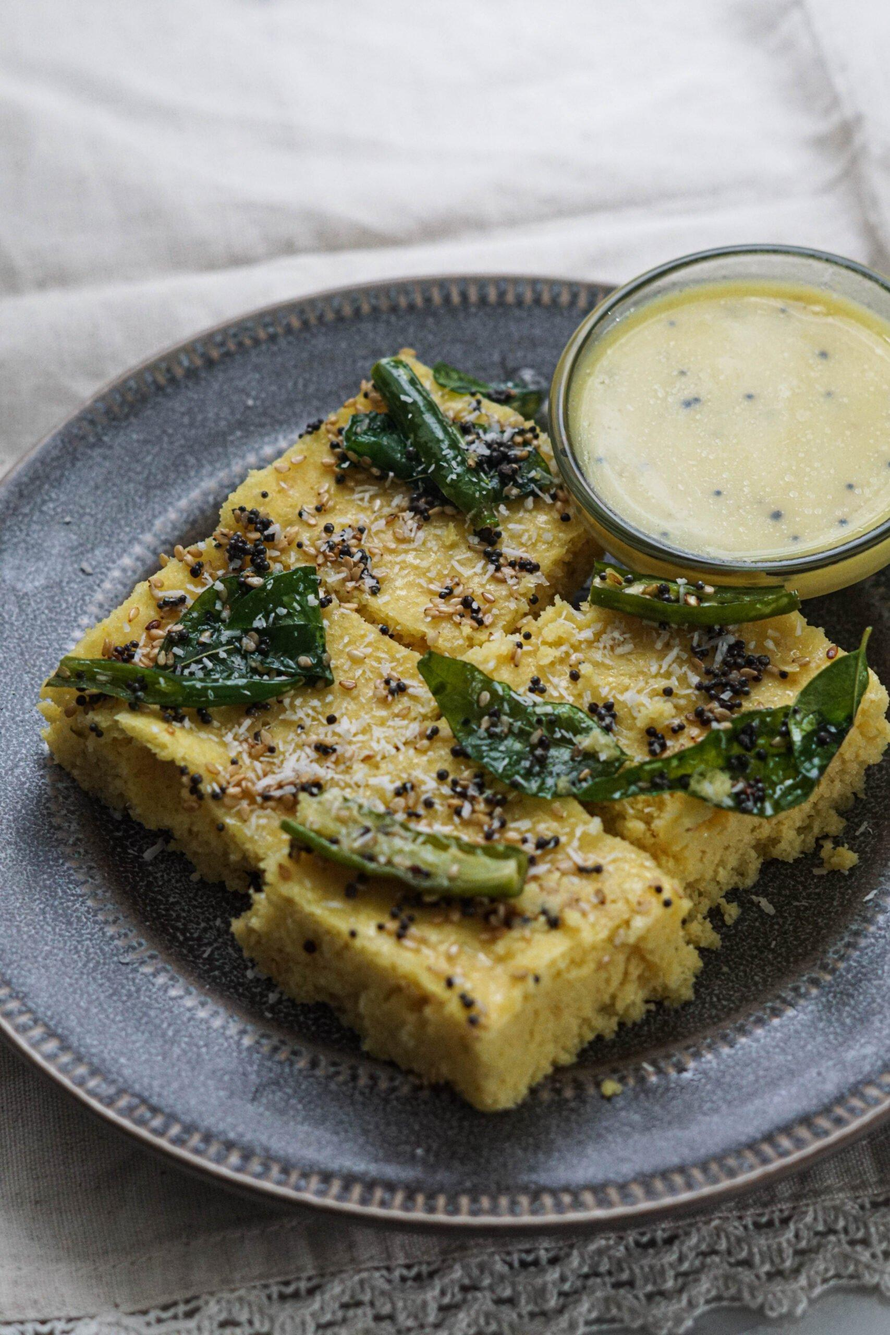dhokla: (78, 368, 890, 1089)
